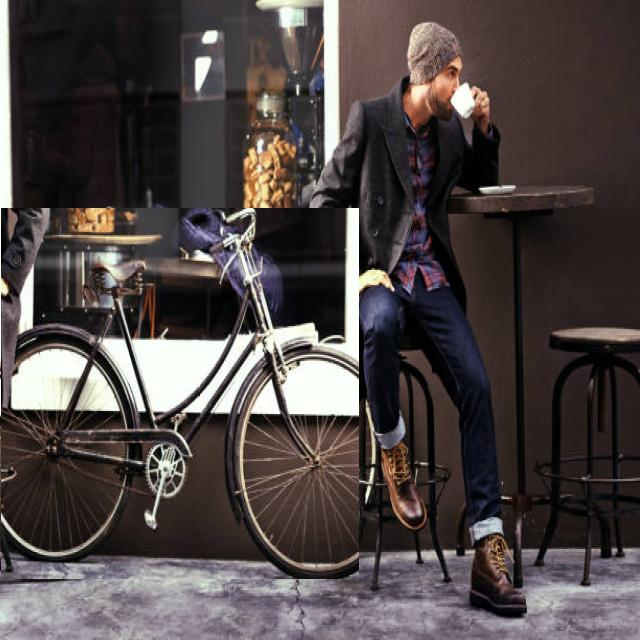bicycle: (0, 209, 359, 579)
